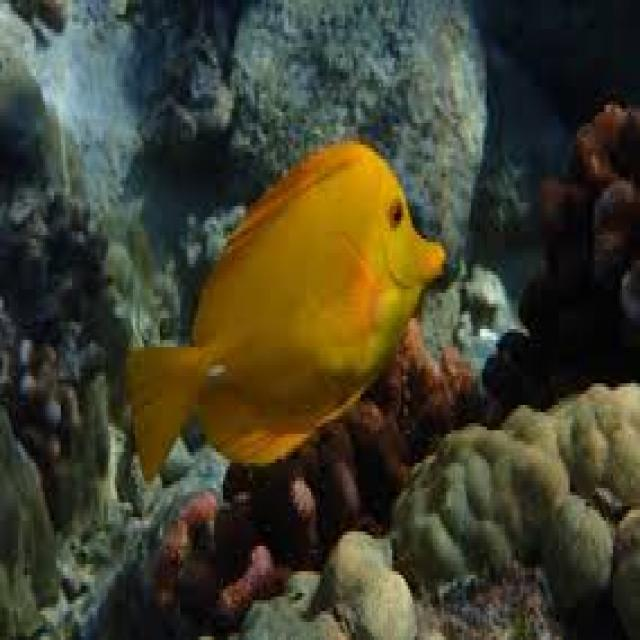YellowTang: (102, 117, 448, 487)
